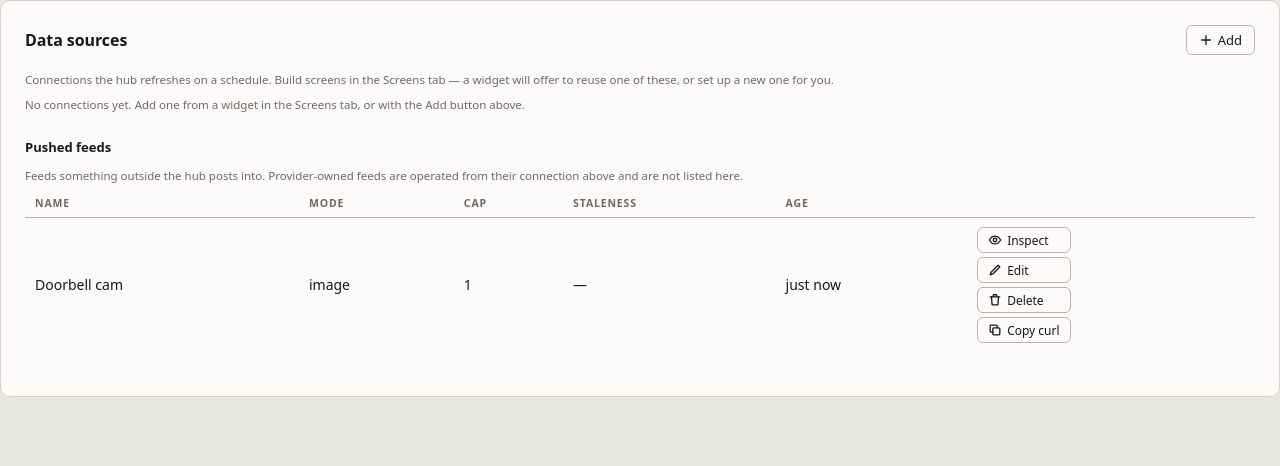
Scenario: Feeds page › inspector shows image_rev and age for an image feed instead of a JSON payload
expect the text "Doorbell cam" is shown: met, box [25,217,299,352]
Click the button "Inspect".
click(1024, 240)  # box [977,227,1071,253]
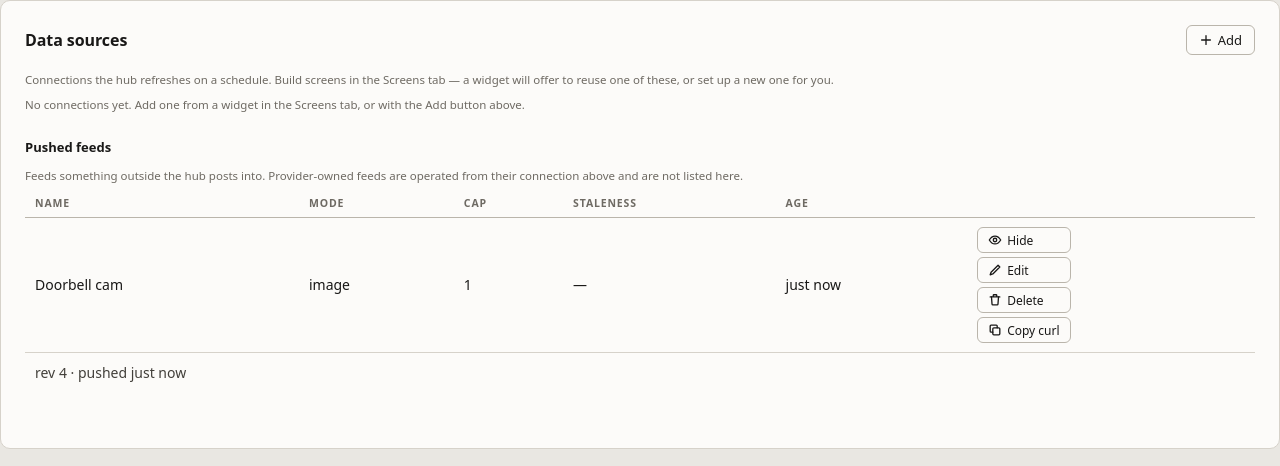
expect the text "rev 4 · pushed just now" is shown: met, box [35,363,186,382]
